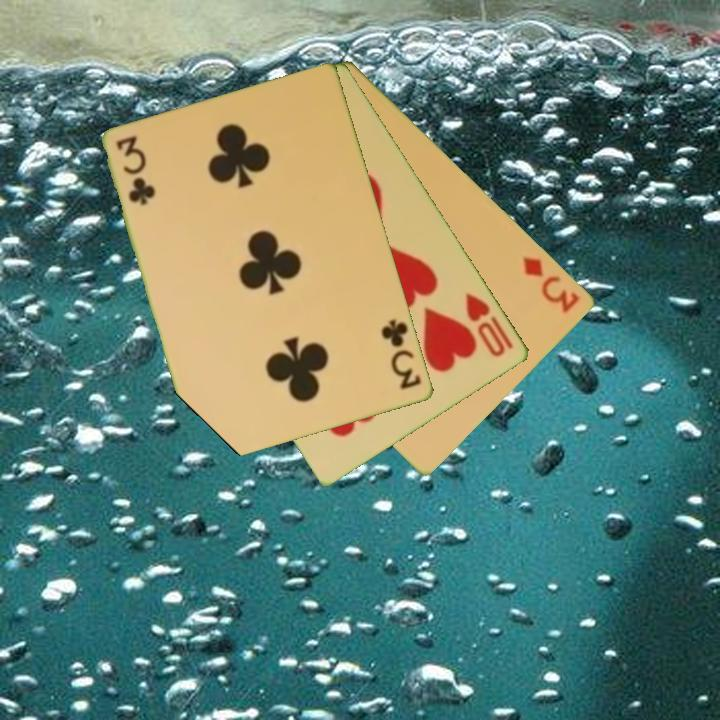10h: (462, 289, 517, 361)
3c: (378, 316, 425, 393), (113, 133, 157, 209)
3d: (519, 252, 583, 316)
